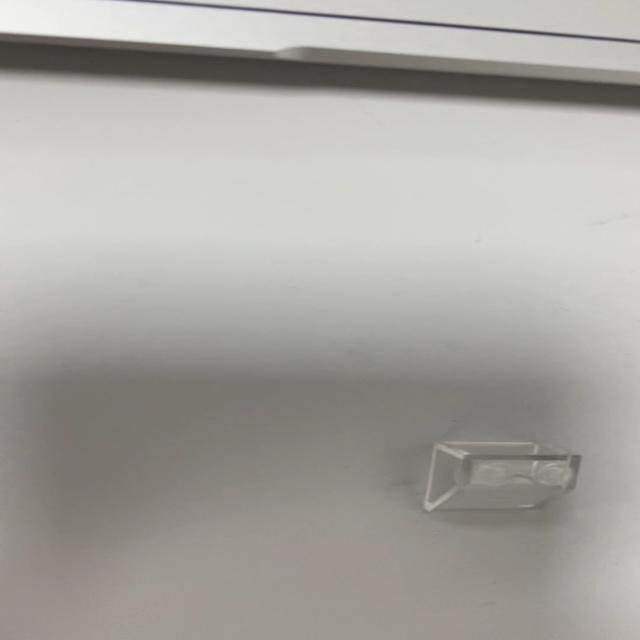P2x2x1: (421, 440, 583, 513)
